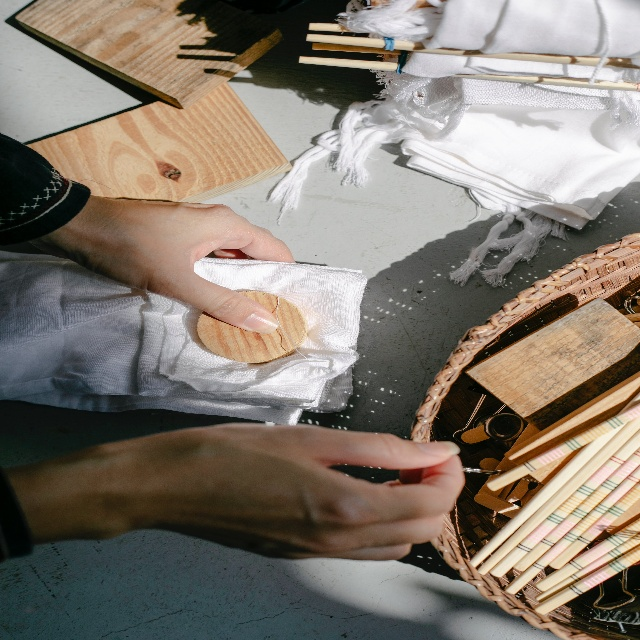Sin_guantes: (149, 415, 467, 559), (110, 187, 298, 339)
